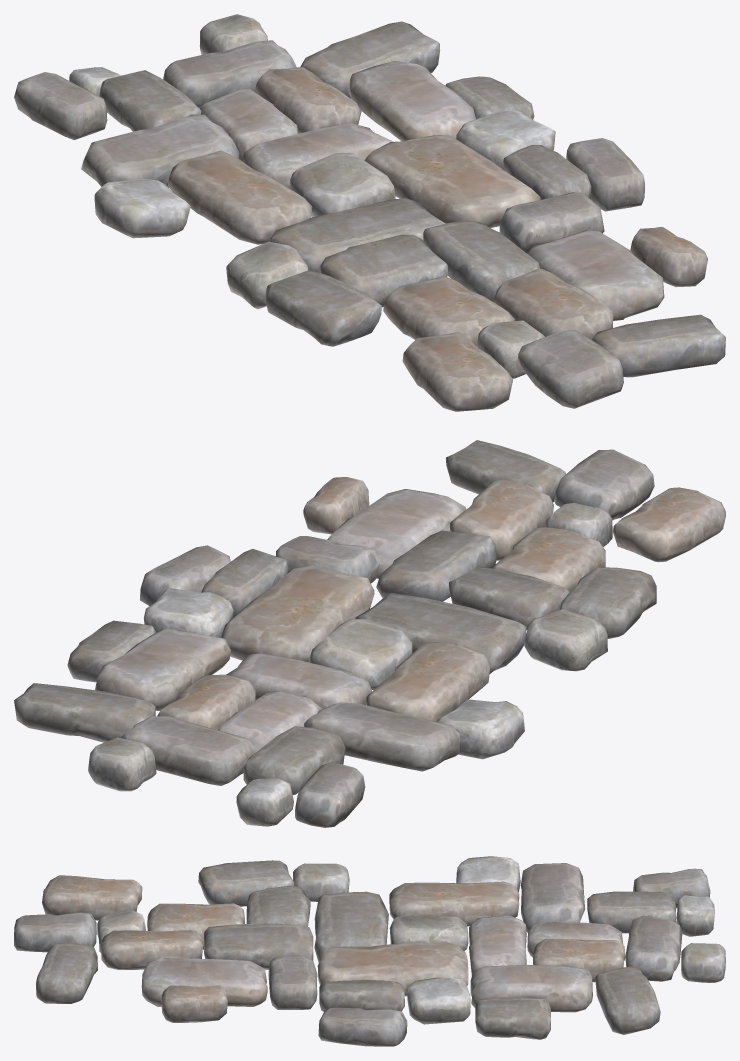
3 renders of one model, top to bottom at view 1: azimuth 30°, elevation 25°; view 2: azimuth 150°, elevation 25°; view 3: azimuth 270°, elevation 25°, orthographic. The views are drawn at different scales.
Visible parts, largest first — view 1: SM_Pavement_02_LOD0; view 2: SM_Pavement_02_LOD0; view 3: SM_Pavement_02_LOD0.
Part boxes in pixels (x1,y1,x2,y2): SM_Pavement_02_LOD0: (14, 14, 725, 411); SM_Pavement_02_LOD0: (14, 440, 725, 827); SM_Pavement_02_LOD0: (14, 856, 725, 1046).
Bounding box in the file's own units: 2.29 × 0.2365 × 4.07.
1 material, 1 textured.
